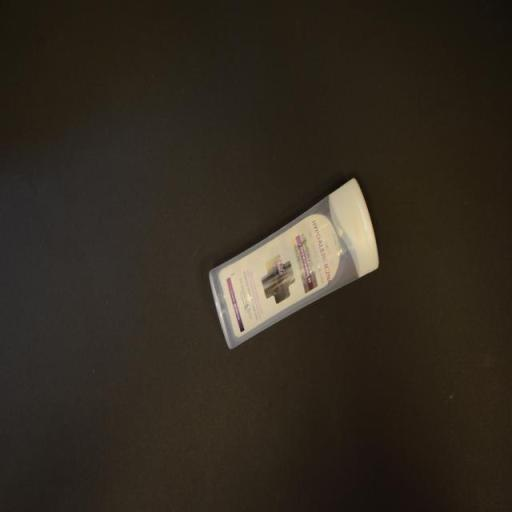plastic: (208, 170, 384, 356)
